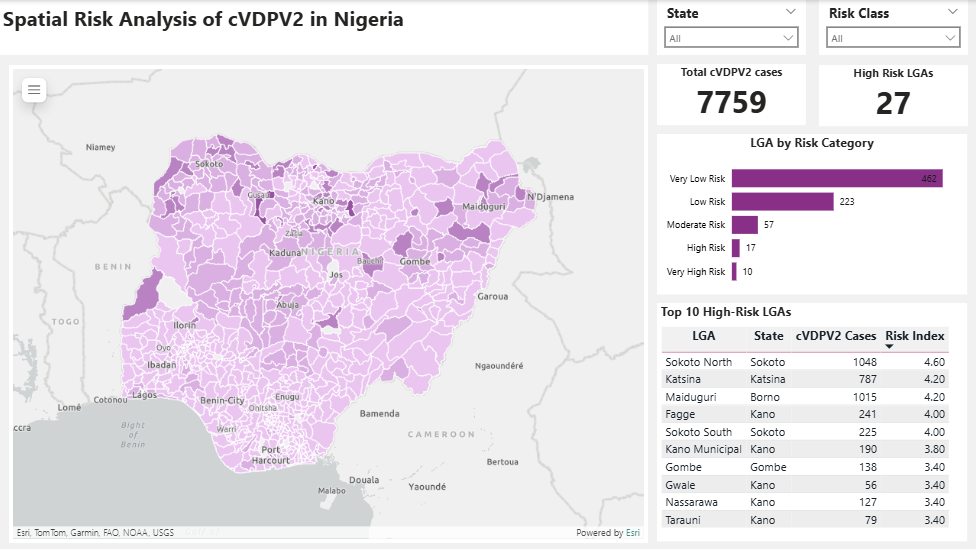

What the dashboard file says about the page in this screenshot:
{"tool":"powerbi","page":{"name":"Page 1","canvas":[1280,720],"ordinal":0},"visuals":[{"type":"esriVisual","fields":{"Location":["LGA x cVDPV2 x Pop_den.Location"],"Color":["Sum(LGA x cVDPV2 x Pop_den.Risk Index)"]},"box":[13.6,84.5,836.2,624.9],"z":0},{"type":"card","title":"Total cVDPV2 cases","fields":{"Values":["Sum(LGA x cVDPV2 x Pop_den.features.properties.cDVPV2_Sum)"]},"box":[861.9,84,195,80],"z":1000},{"type":"card","title":"High Risk LGAs","fields":{"Values":["LGA x cVDPV2 x Pop_den.High Risk LGAs"]},"box":[1073.2,84.5,194.7,80],"z":2000},{"type":"barChart","title":"LGA by Risk Category","fields":{"Category":["LGA x cVDPV2 x Pop_den.Risk Class"],"Y":["CountNonNull(LGA x cVDPV2 x Pop_den.features.properties.lganame)"]},"box":[861.9,175.6,406,209.8],"z":3000},{"type":"tableEx","title":"Top 10 High-Risk LGAs","fields":{"Values":["LGA x cVDPV2 x Pop_den.features.properties.lganame","LGA x cVDPV2 x Pop_den.features.properties.statename","Sum(LGA x cVDPV2 x Pop_den.features.properties.cDVPV2_Sum)","Sum(LGA x cVDPV2 x Pop_den.Risk Index)"]},"box":[861.9,397,406,312.5],"z":4000},{"type":"textbox","box":[0,0,849.8,72.5],"z":4001},{"type":"slicer","fields":{"Values":["LGA x cVDPV2 x Pop_den.State"]},"box":[861.9,0,194.7,72.5],"z":4002},{"type":"slicer","fields":{"Values":["LGA x cVDPV2 x Pop_den.Risk Class"]},"box":[1073.2,0,194.7,72.5],"z":4003}]}

Visuals, with their boxes in screenshot pixels (x1, y1, x2, y2), scaled from the page's 1280x720 canvas onto the 976x549 screenshot:
esriVisual - LGA x cVDPV2 x Pop_den.Location x Sum(LGA x cVDPV2 x Pop_den.Risk Index): {"x1": 10, "y1": 64, "x2": 648, "y2": 541}
"Total cVDPV2 cases" card: {"x1": 657, "y1": 64, "x2": 806, "y2": 125}
"High Risk LGAs" card: {"x1": 818, "y1": 64, "x2": 967, "y2": 125}
"LGA by Risk Category" barChart: {"x1": 657, "y1": 134, "x2": 967, "y2": 294}
"Top 10 High-Risk LGAs" tableEx: {"x1": 657, "y1": 303, "x2": 967, "y2": 541}
textbox: {"x1": 0, "y1": 0, "x2": 648, "y2": 55}
slicer - LGA x cVDPV2 x Pop_den.State: {"x1": 657, "y1": 0, "x2": 806, "y2": 55}
slicer - LGA x cVDPV2 x Pop_den.Risk Class: {"x1": 818, "y1": 0, "x2": 967, "y2": 55}
